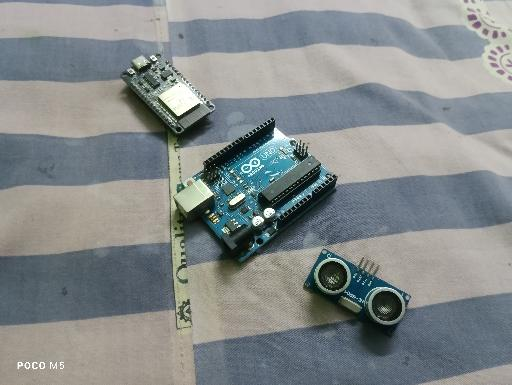Arduino: (174, 117, 338, 264)
Esp32: (119, 52, 216, 136)
sensor: (302, 247, 412, 338)
